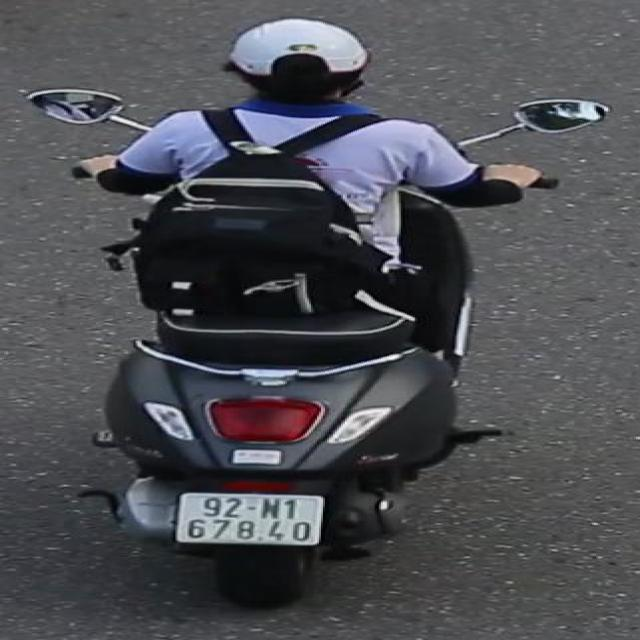LP: (175, 490, 331, 554)
helmet: (222, 14, 378, 108)
